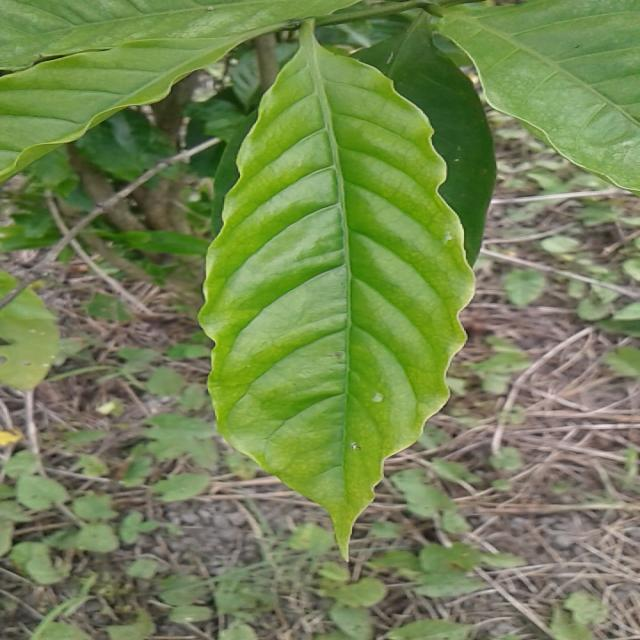Sanas: (200, 22, 473, 552)
